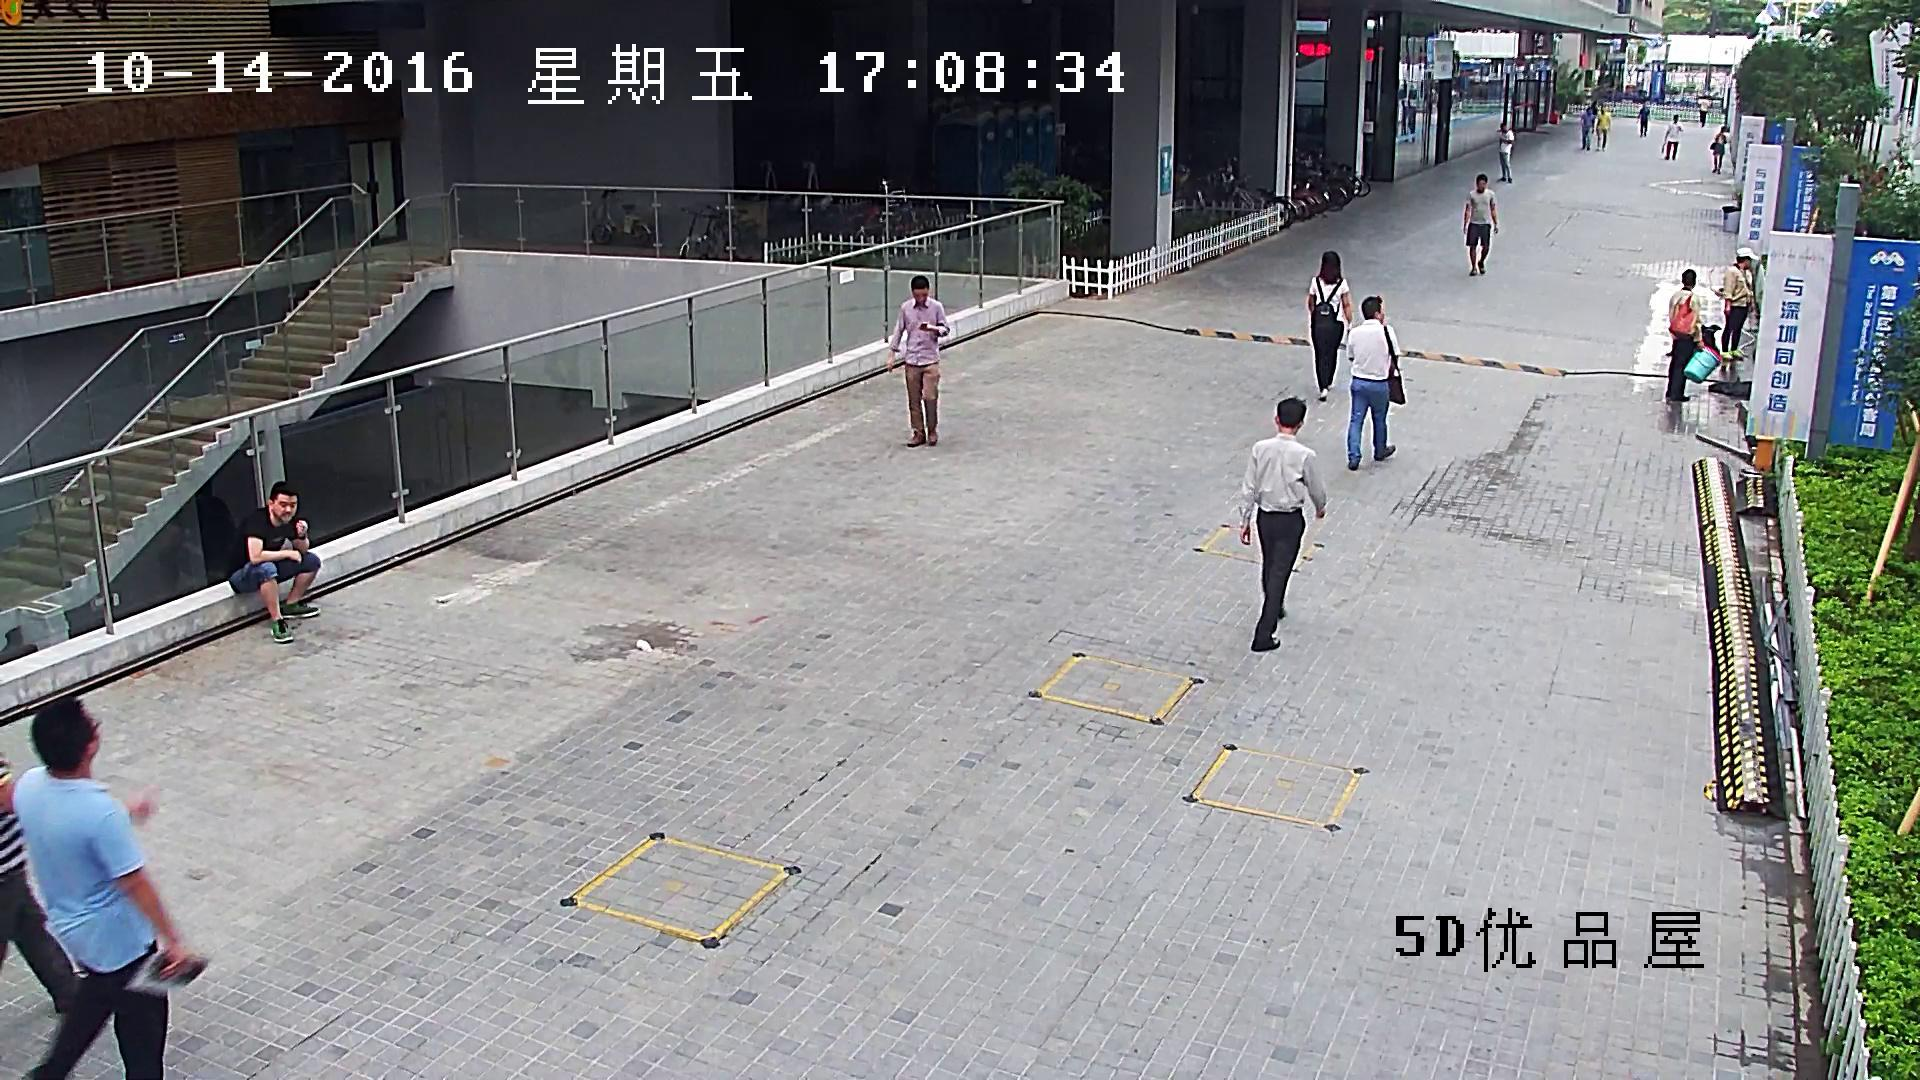person: (0, 695, 208, 1080), (1238, 396, 1326, 651), (0, 753, 81, 1011), (229, 480, 322, 642), (887, 275, 951, 447), (1346, 296, 1406, 469), (1666, 270, 1720, 401), (1307, 251, 1353, 399), (1665, 269, 1705, 401), (1720, 247, 1759, 359), (1463, 174, 1499, 275), (1661, 114, 1684, 160), (1709, 127, 1727, 174), (1498, 124, 1513, 183), (1595, 105, 1612, 152), (1579, 105, 1594, 150), (1636, 102, 1650, 138), (1696, 94, 1709, 127)
